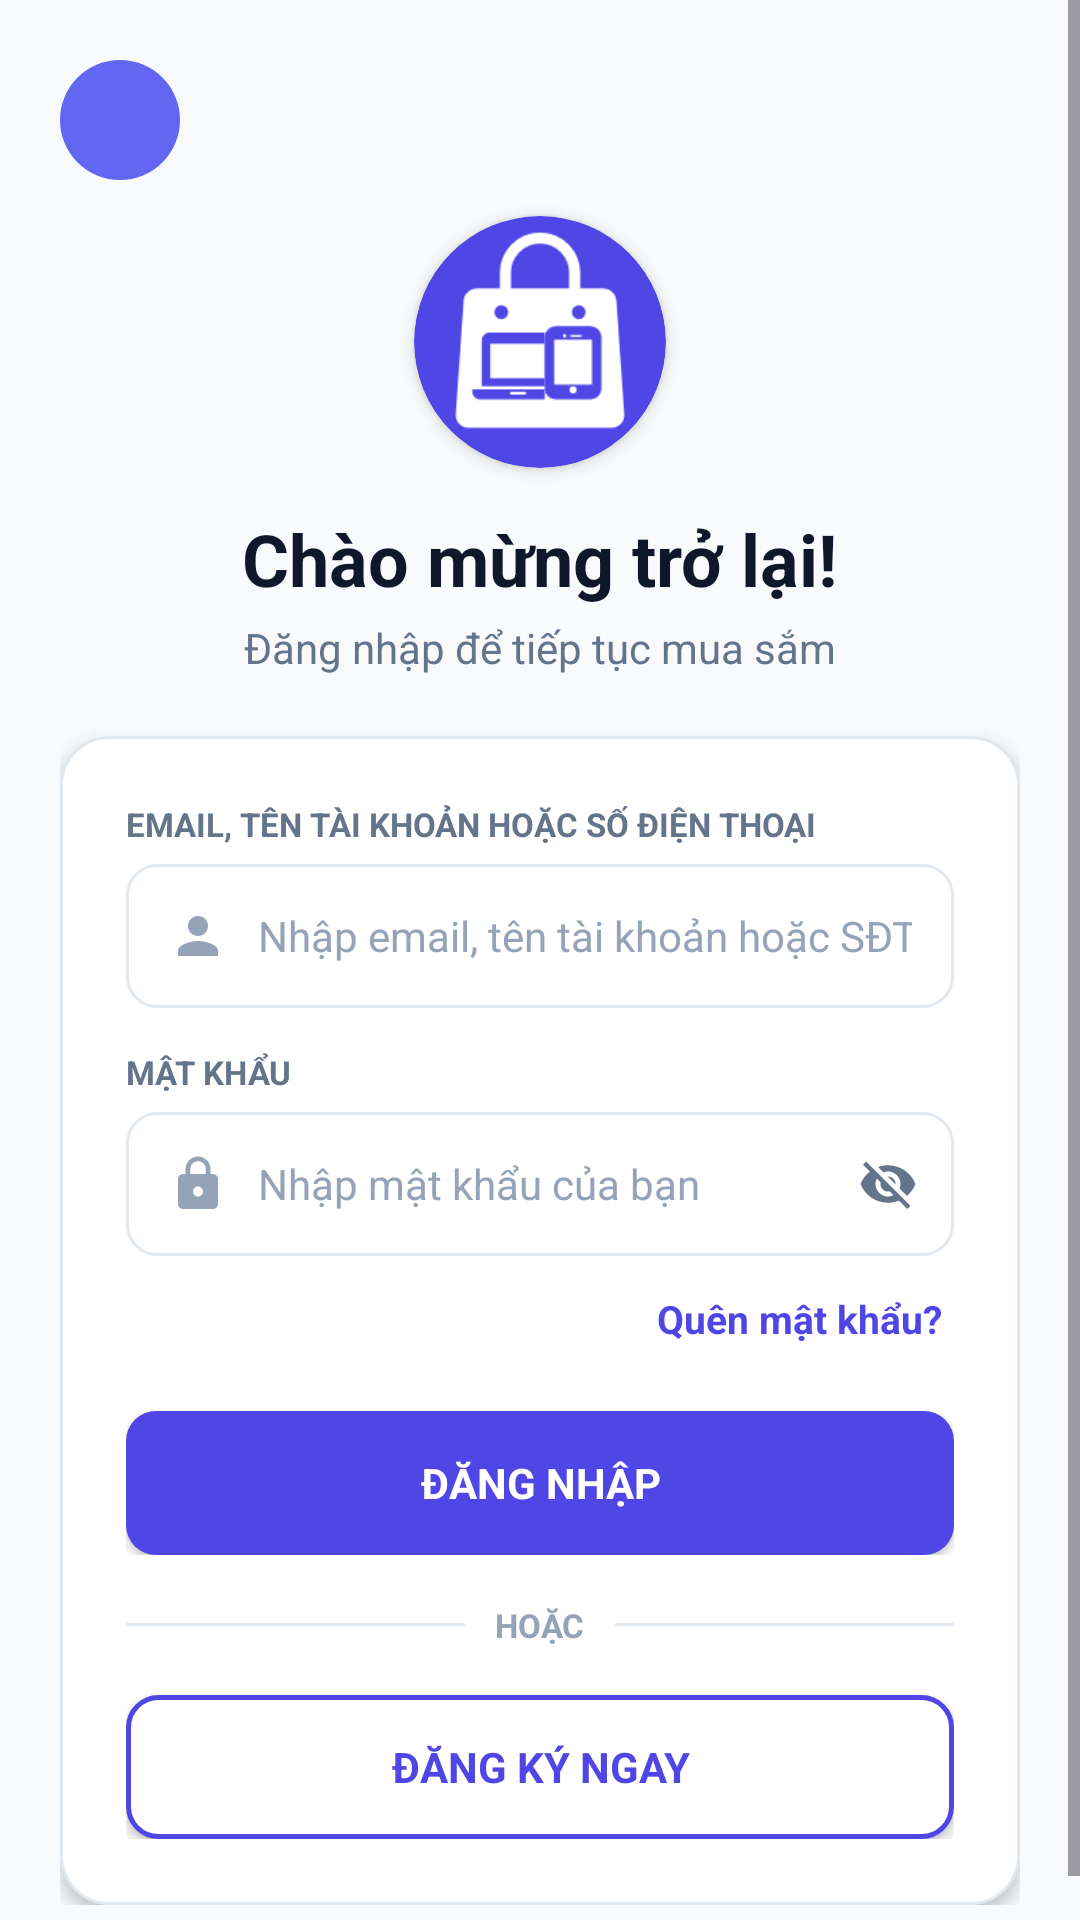

Named icons in this screenshot (1080*1920) and their centers, (x=x, y=y):
Ẩn hiện mật khẩu: (x=888, y=1185)
